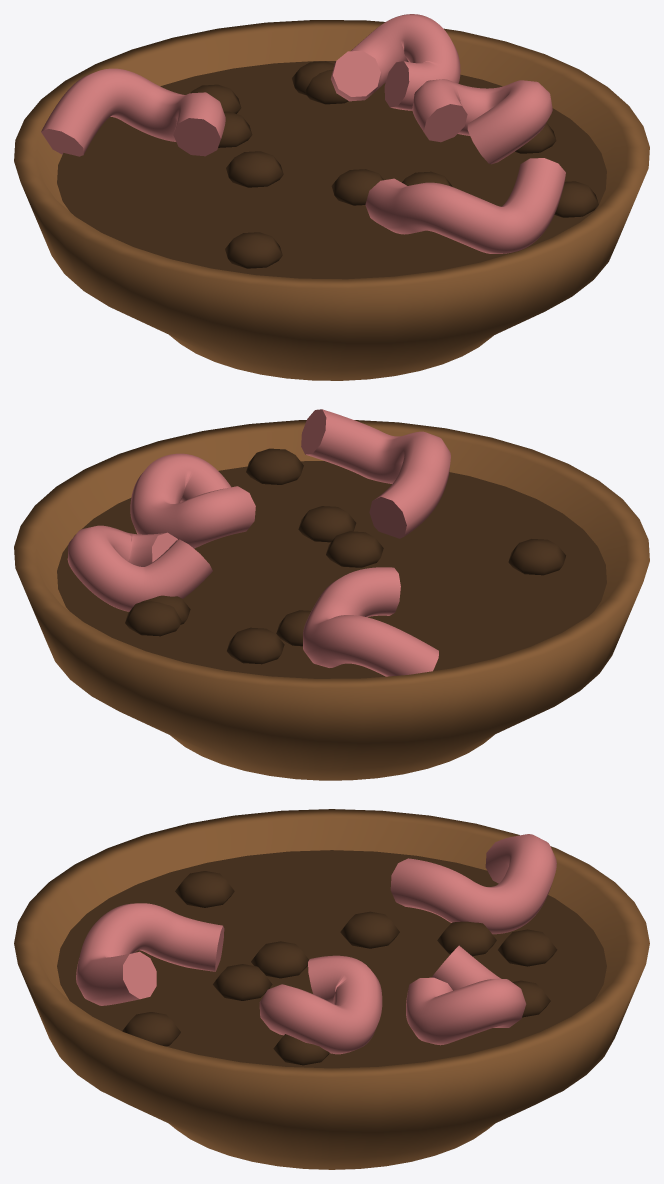
The model's file is wuermer.glb.
3 renders of one model, top to bottom at view 1: azimuth 30°, elevation 25°; view 2: azimuth 150°, elevation 25°; view 3: azimuth 270°, elevation 25°, orthographic.
Visible parts, largest first — view 1: schale, inhalt, r.002, r, r.003, r.001, Sphere.005, Sphere.009, Sphere.008, Sphere.004, Sphere, Sphere.002 (+3 smaller); view 2: schale, inhalt, r.002, r, r.001, r.003, Sphere.008, Sphere.003, Sphere.004, Sphere.005, Sphere.001, Sphere.007 (+1 smaller); view 3: schale, inhalt, r.002, r, r.003, r.001, Sphere.003, Sphere.009, Sphere.005, Sphere.007, Sphere.008, Sphere.002 (+3 smaller).
Part boxes in pixels (left/top/right/bottom): schale: left=14, top=20, right=649, bottom=380; inhalt: left=57, top=61, right=606, bottom=279; r.002: left=365, top=158, right=565, bottom=253; r: left=41, top=68, right=225, bottom=156; r.003: left=412, top=79, right=552, bottom=164; r.001: left=331, top=14, right=460, bottom=110; Sphere.005: left=225, top=232, right=282, bottom=268; Sphere.009: left=226, top=151, right=283, bottom=187; Sphere.008: left=331, top=169, right=383, bottom=205; Sphere.004: left=554, top=181, right=598, bottom=217; Sphere: left=305, top=69, right=348, bottom=104; Sphere.002: left=218, top=111, right=252, bottom=147; schale: left=14, top=420, right=649, bottom=780; inhalt: left=57, top=461, right=606, bottom=678; r.002: left=301, top=409, right=450, bottom=538; r: left=303, top=567, right=438, bottom=676; r.001: left=67, top=525, right=212, bottom=611; r.003: left=130, top=453, right=255, bottom=548; Sphere.008: left=326, top=531, right=383, bottom=567; Sphere.003: left=227, top=627, right=284, bottom=664; Sphere.004: left=246, top=448, right=303, bottom=484; Sphere.005: left=508, top=539, right=565, bottom=575; Sphere.001: left=125, top=601, right=181, bottom=636; Sphere.007: left=298, top=506, right=356, bottom=542; schale: left=14, top=809, right=649, bottom=1169; inhalt: left=57, top=850, right=606, bottom=1068; r.002: left=76, top=903, right=224, bottom=1005; r: left=390, top=834, right=556, bottom=934; r.003: left=259, top=955, right=382, bottom=1054; r.001: left=406, top=945, right=526, bottom=1045; Sphere.003: left=498, top=929, right=557, bottom=966; Sphere.009: left=340, top=911, right=399, bottom=948; Sphere.005: left=175, top=871, right=234, bottom=907; Sphere.007: left=213, top=964, right=272, bottom=1000; Sphere.008: left=251, top=941, right=308, bottom=978; Sphere.002: left=437, top=921, right=496, bottom=956.
Size of the model in its own units: 0.17 by 0.0578 by 0.17.
